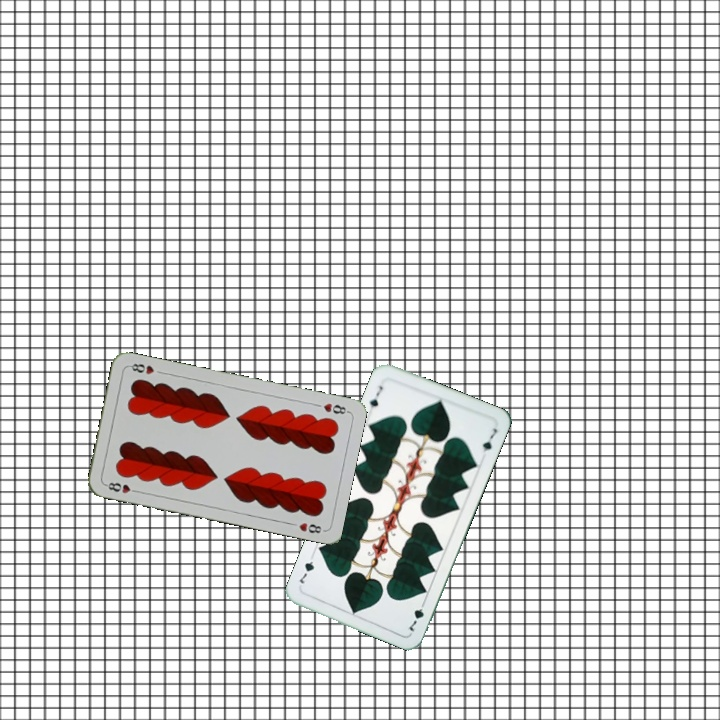G7: (405, 596, 428, 634), (365, 381, 385, 410)
H8: (101, 478, 142, 496), (319, 399, 351, 417)
